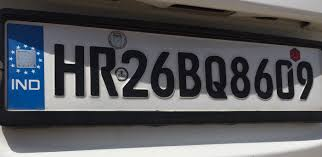inlp: (1, 10, 322, 126)
